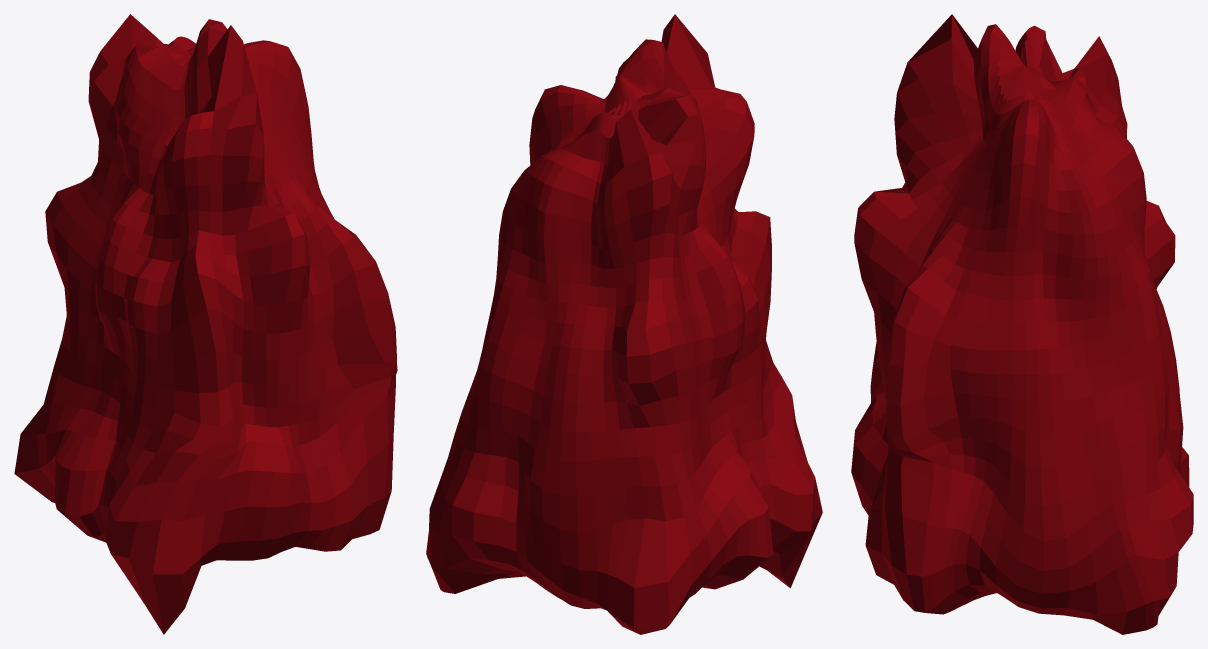
The model's file is Screen tower corruption.fbx.
3 views of the same model, side by side, from view 1: azimuth 30°, elevation 25°; view 2: azimuth 150°, elevation 25°; view 3: azimuth 270°, elevation 25° (orthographic).
Parts seen in each view (by area): view 1: Sphere; view 2: Sphere; view 3: Sphere.
Part boxes in pixels (bbox=[...]): Sphere: bbox=[14, 14, 397, 634]; Sphere: bbox=[426, 14, 822, 634]; Sphere: bbox=[851, 14, 1193, 634].
Size of the model in its own units: 1164 by 2208 by 1182.
